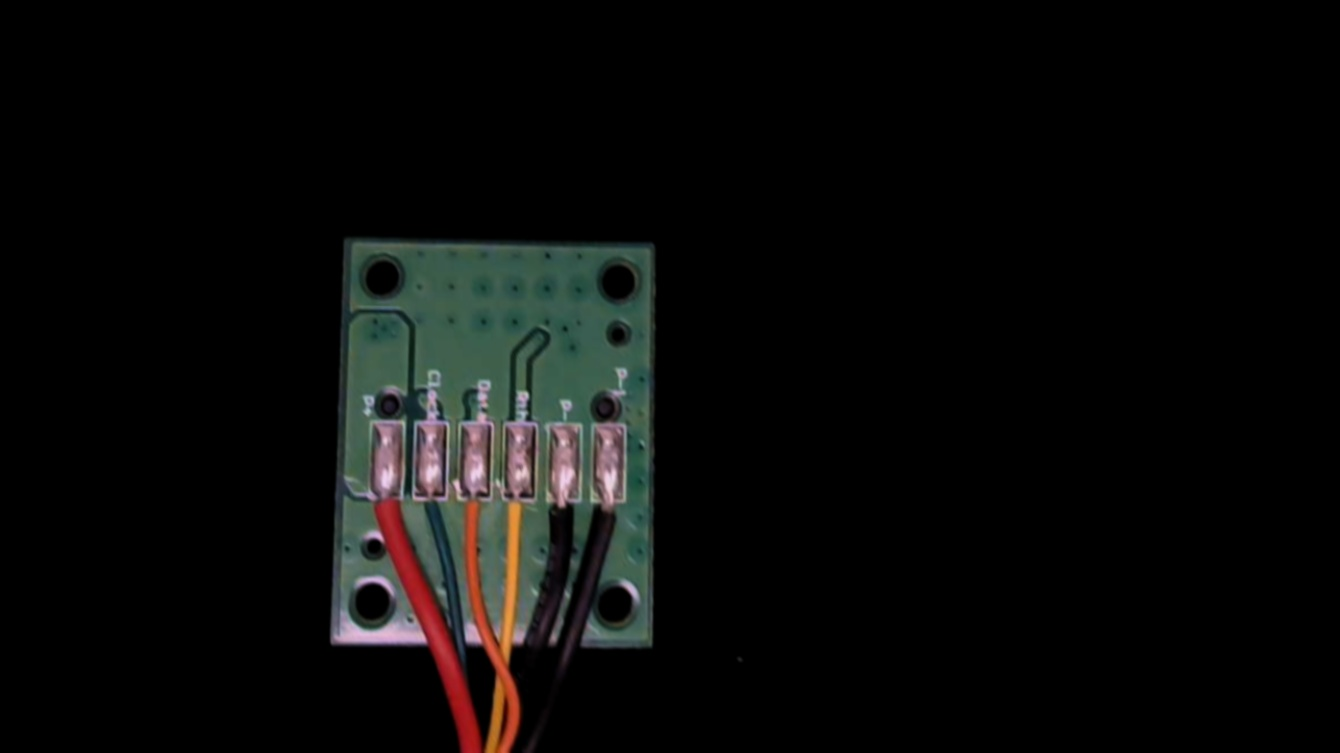Black: (543, 474, 583, 566)
Black1: (588, 477, 628, 562)
Green: (411, 465, 451, 553)
Orange: (454, 475, 491, 565)
Red: (368, 469, 407, 557)
Yellow: (499, 477, 539, 570)
